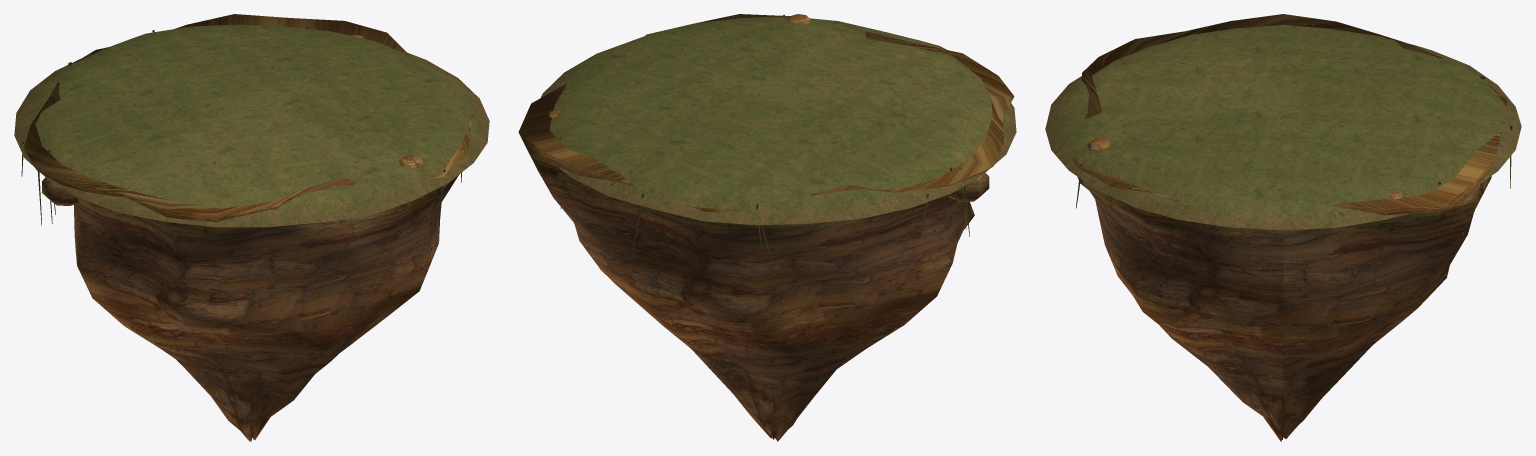
Rendered from floating-islands.glb.
3 views of the same model, side by side, from view 1: azimuth 30°, elevation 25°; view 2: azimuth 150°, elevation 25°; view 3: azimuth 270°, elevation 25° (orthographic).
Visible parts, largest first — view 1: IslandCap, IslandRock; view 2: IslandCap, IslandRock; view 3: IslandCap, IslandRock.
Part boxes in pixels (box(x1,y1,x2,y2)): IslandCap: box(14, 24, 489, 227); IslandRock: box(23, 14, 473, 441); IslandCap: box(541, 14, 1016, 258); IslandRock: box(518, 14, 1014, 441); IslandCap: box(1045, 23, 1521, 234); IslandRock: box(1074, 14, 1507, 441).
Size of the model in its own units: 55.15 by 42.71 by 54.
2 materials, 2 textured.
